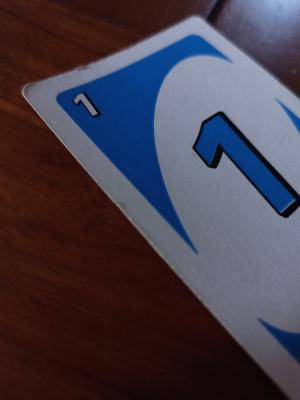blue: (86, 75, 289, 201)
num_1: (65, 88, 108, 123)
